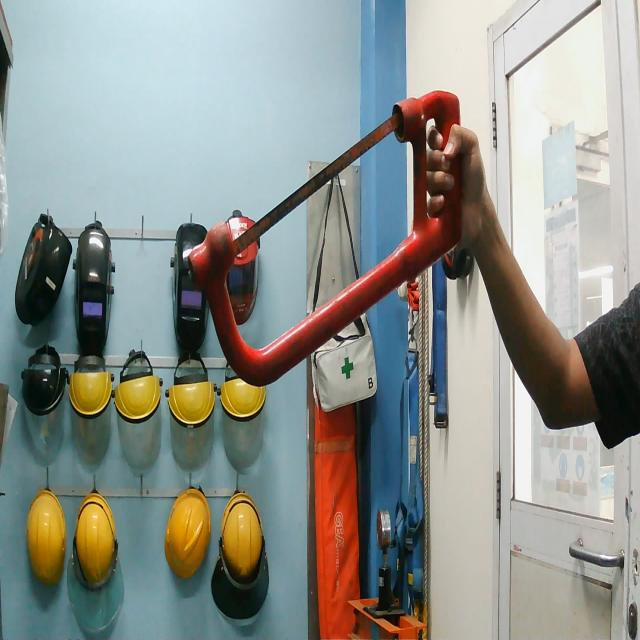gergaji_besi: (172, 59, 502, 431)
